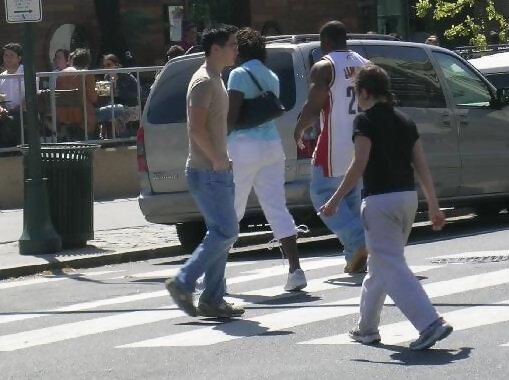person: (334, 67, 473, 354), (293, 19, 389, 269), (225, 27, 310, 287), (172, 21, 237, 329)
